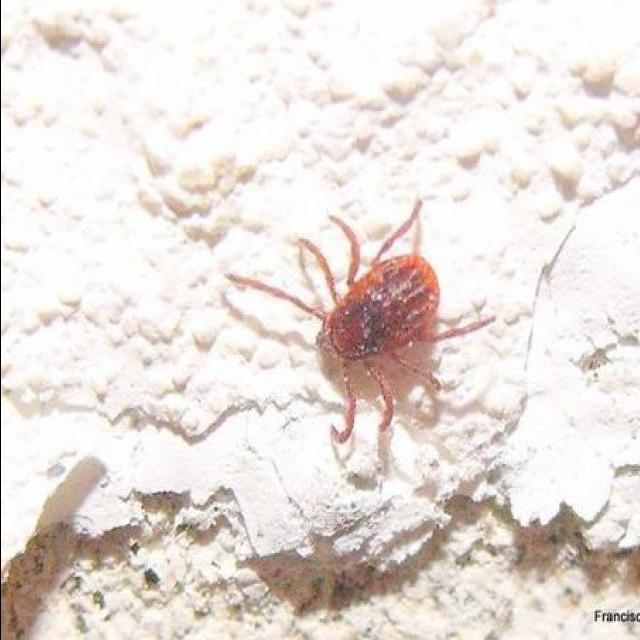Rhipicephalus Sanguineus-F: (227, 200, 496, 493)
